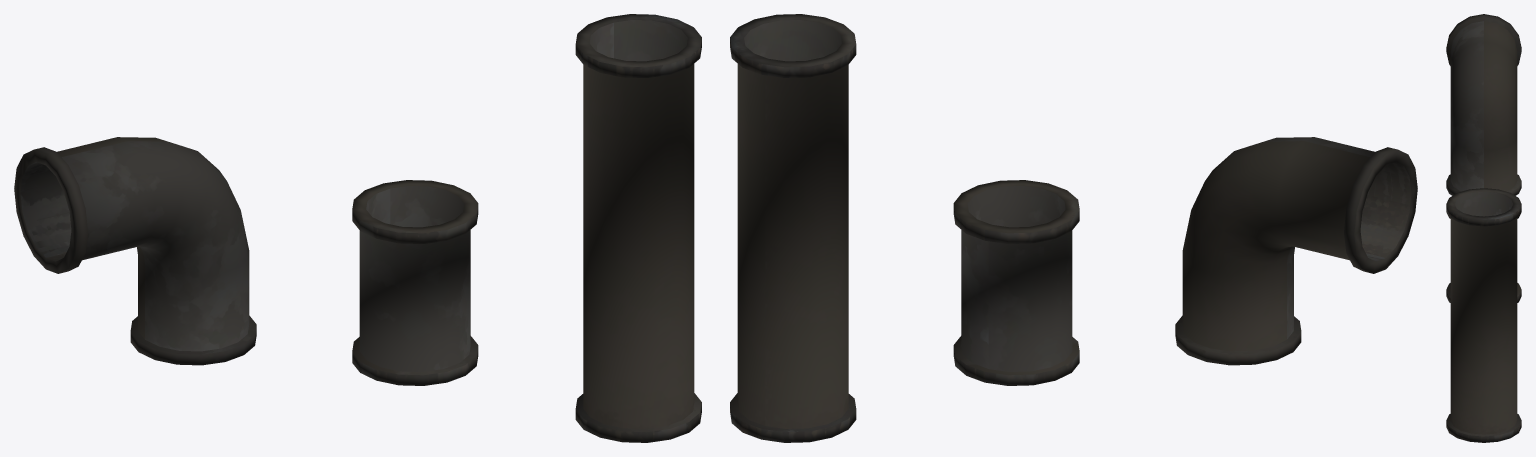
File: Tubes.gltf
3 views of the same model, side by side, from view 1: azimuth 30°, elevation 25°; view 2: azimuth 150°, elevation 25°; view 3: azimuth 270°, elevation 25° (orthographic). The views are drawn at different scales.
Parts seen in each view (by area): view 1: Tube, TubeRotated, TubeElement; view 2: Tube, TubeRotated, TubeElement; view 3: Tube, TubeRotated, TubeElement.
Boxes of the visible parts, box(x1,y1,x2,y2) form: Tube: box(575, 14, 701, 442); TubeRotated: box(14, 137, 256, 365); TubeElement: box(352, 180, 478, 385); Tube: box(730, 14, 856, 442); TubeRotated: box(1175, 137, 1417, 365); TubeElement: box(953, 180, 1079, 385); Tube: box(1446, 188, 1521, 442); TubeRotated: box(1446, 14, 1521, 195); TubeElement: box(1446, 211, 1521, 302).
Size of the model in its own units: 5.35 by 3.21 by 0.9091.
1 material, 1 textured.
